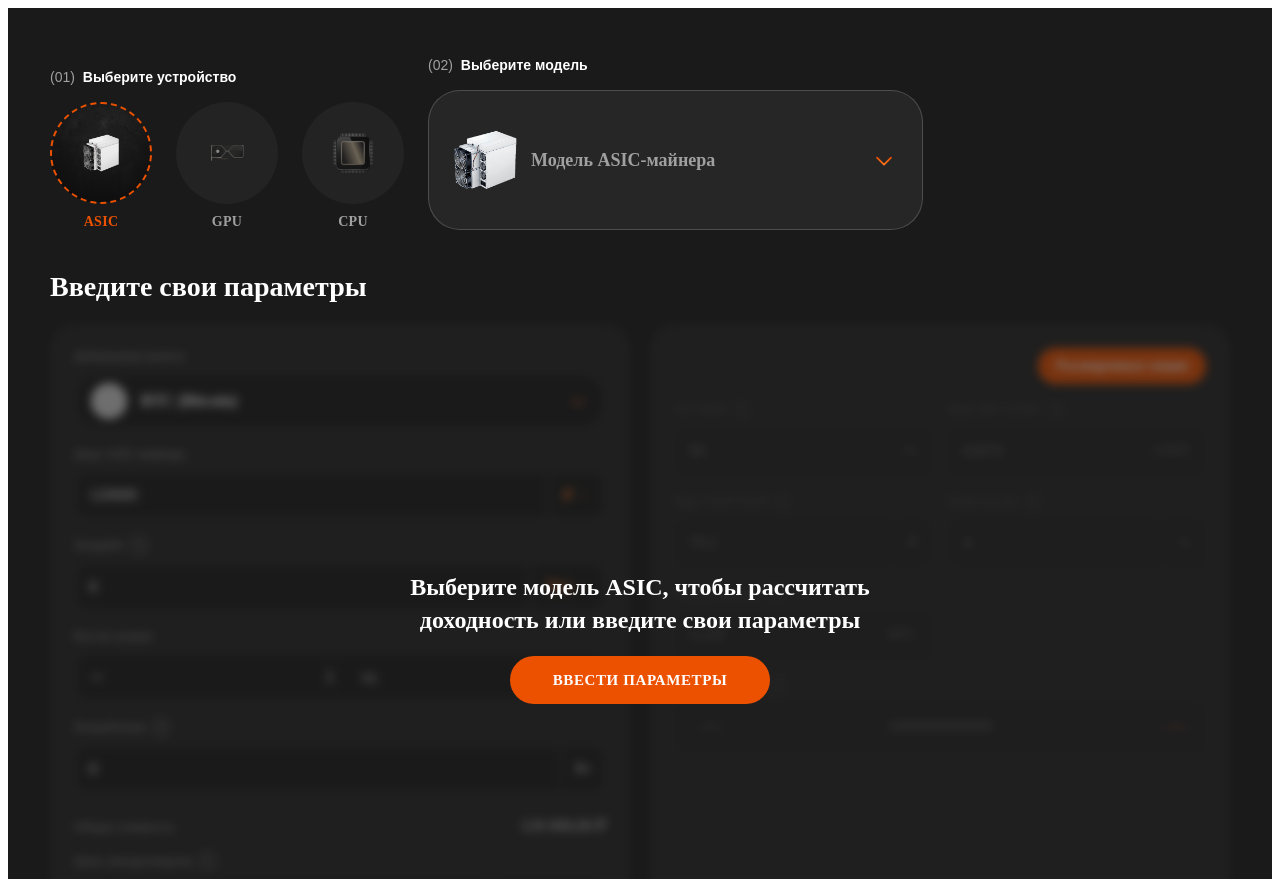
Test case: CalculatorForm › shows CPU lock message
What coordinates should you click on to do the following:
click the tab with class "calculator-form__tab" showing "CPU"
I would click on:
 (353, 166)
Its box is [302,102,404,230].
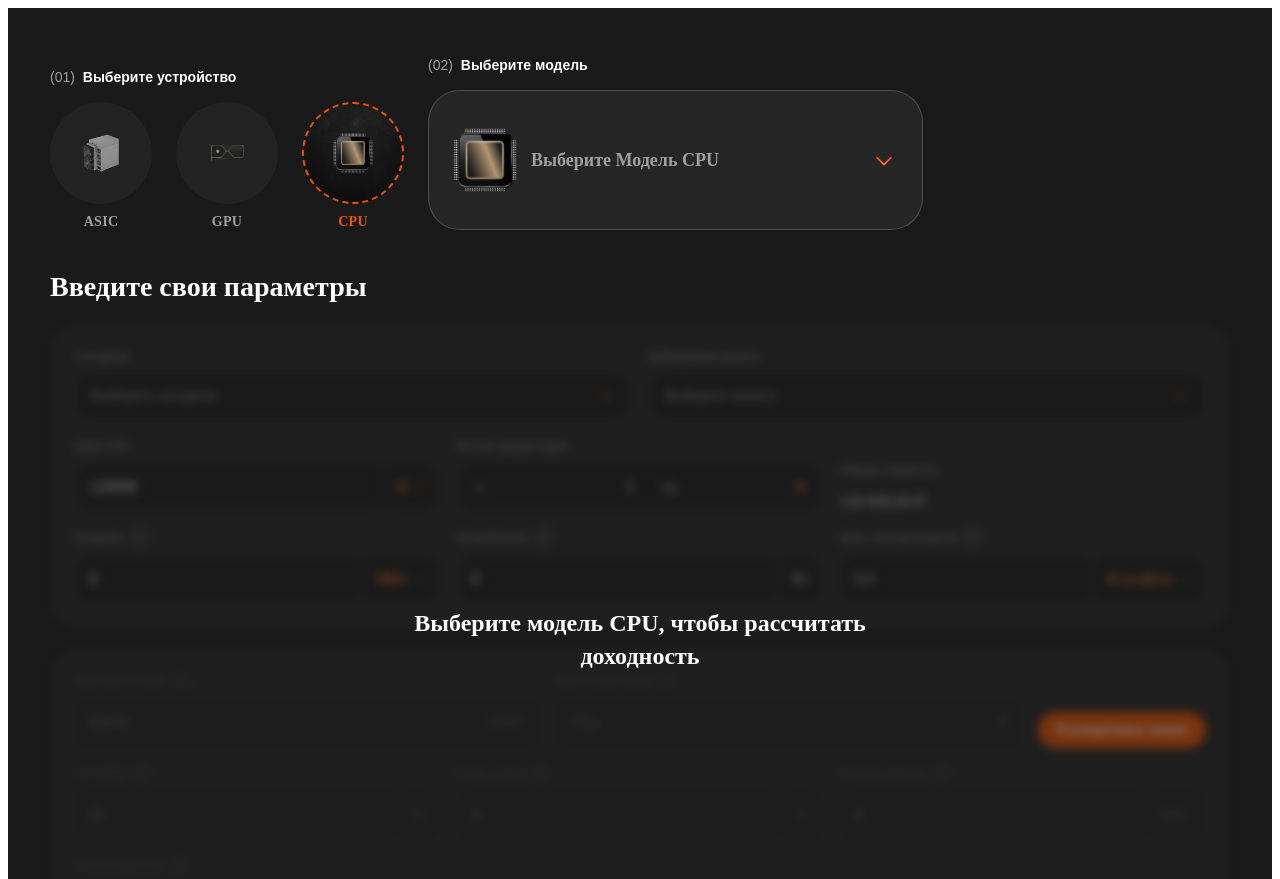
Expected: the text "Выберите модель CPU, чтобы рассчитать доходность" is shown, [380,607,900,672]
